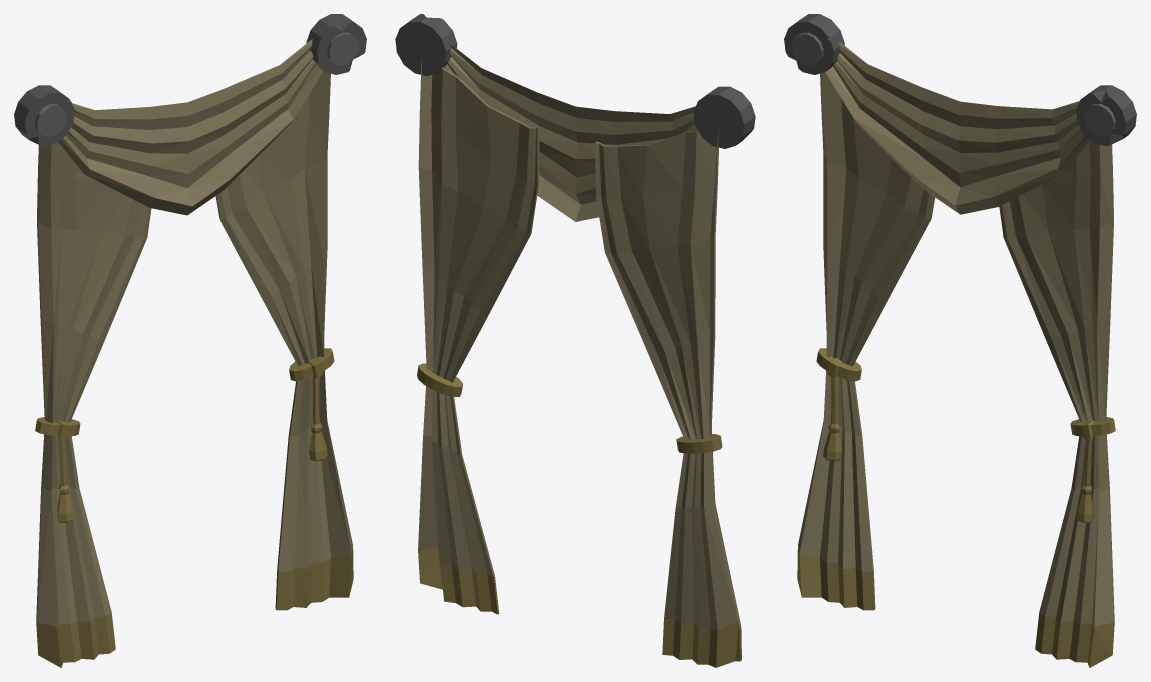
Rendered from SFCS_Mirror_Courtain_001.fbx.
3 renders of one model, left to right at view 1: azimuth 30°, elevation 25°; view 2: azimuth 150°, elevation 25°; view 3: azimuth 330°, elevation 25°, orthographic. The views are drawn at different scales.
Parts seen in each view (by area): view 1: SFCS_Mirror_Courtain_001; view 2: SFCS_Mirror_Courtain_001; view 3: SFCS_Mirror_Courtain_001.
Boxes of the visible parts, box(x1,y1,x2,y2) form: SFCS_Mirror_Courtain_001: box(14, 14, 366, 667); SFCS_Mirror_Courtain_001: box(395, 14, 755, 667); SFCS_Mirror_Courtain_001: box(784, 14, 1136, 667).
Bounding box in the file's own units: 137 × 220 × 18.43.
